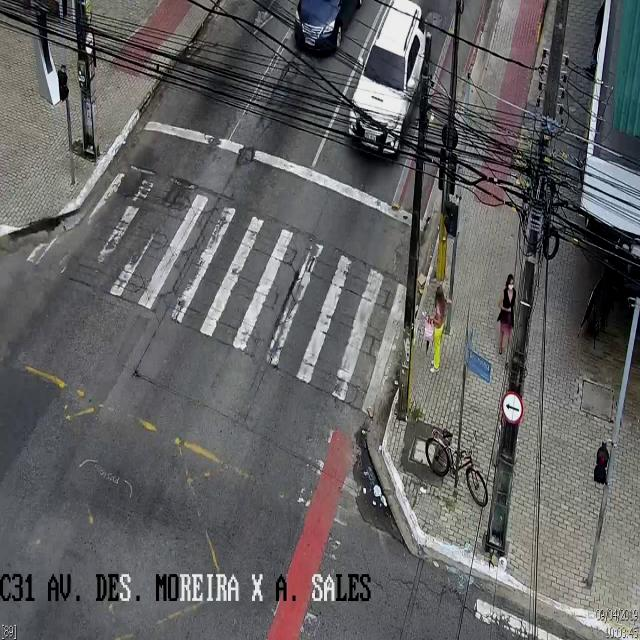Car: (349, 1, 429, 153), (292, 1, 364, 52)
